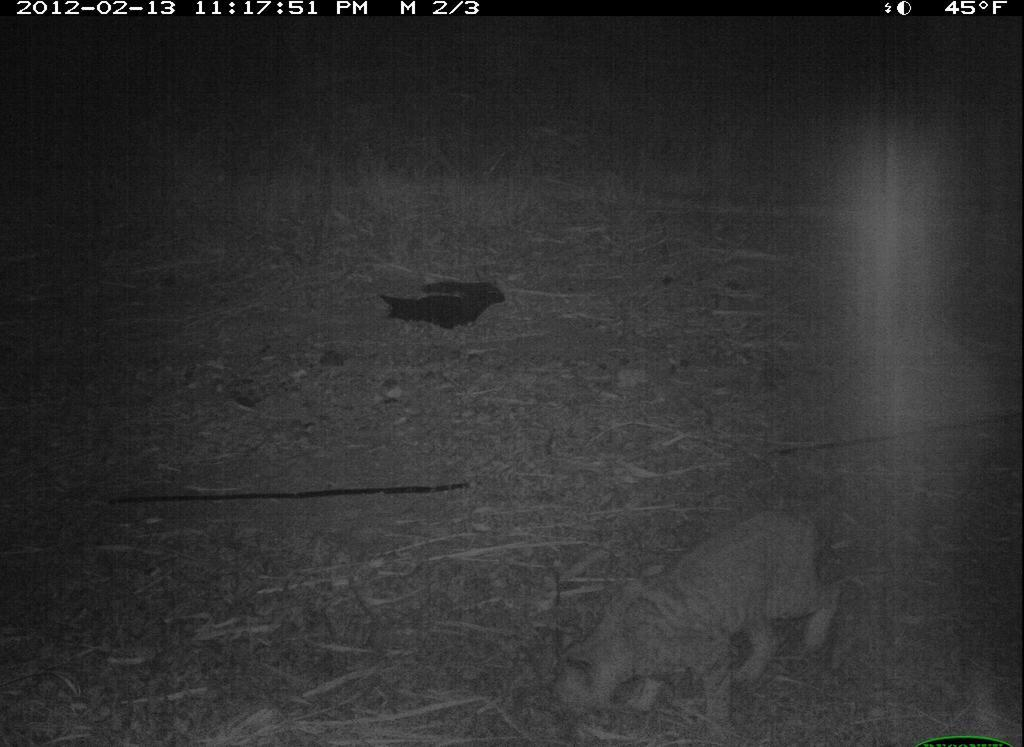bobcat: (561, 496, 839, 735)
